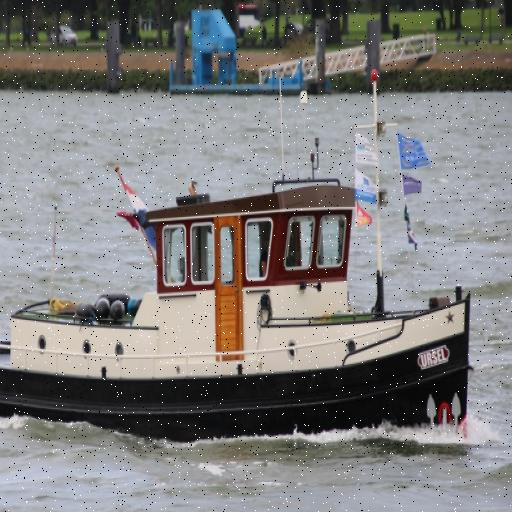tugboat: (1, 165, 476, 461)
